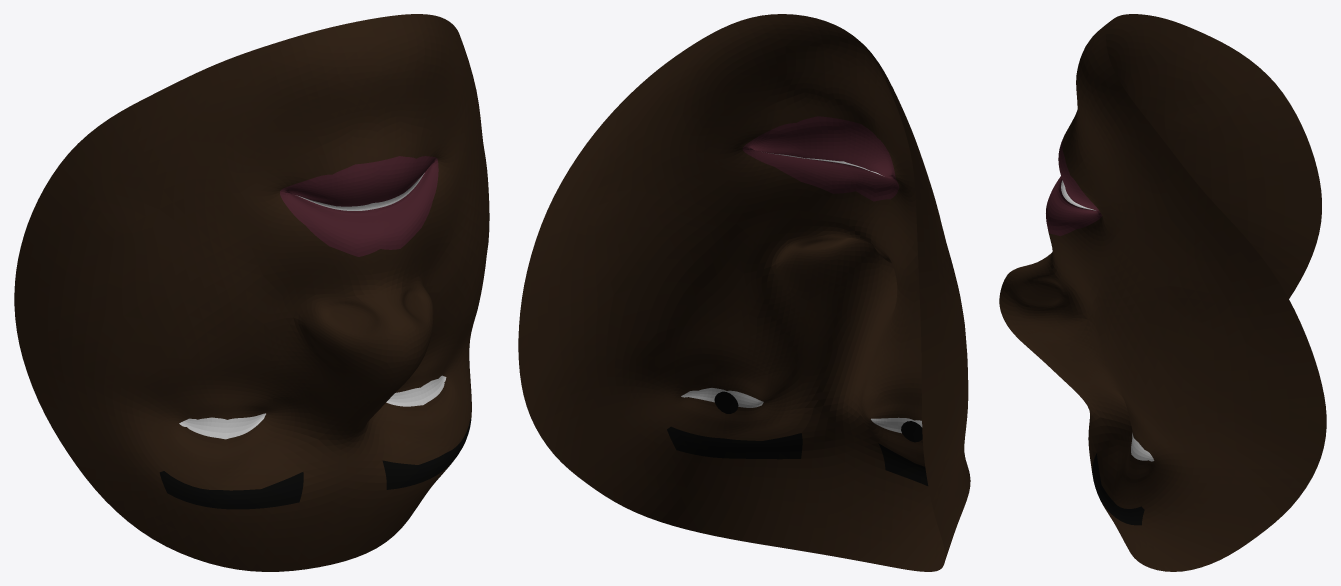
The model's file is crying.obj.
3 renders of one model, left to right at view 1: azimuth 30°, elevation 25°; view 2: azimuth 150°, elevation 25°; view 3: azimuth 270°, elevation 25°, orthographic. The views are drawn at different scales.
Visible parts, largest first — view 1: face_mesh_subdivided; view 2: face_mesh_subdivided; view 3: face_mesh_subdivided.
Boxes of the visible parts, <box> form: face_mesh_subdivided: <box>14,14,489,571</box>; face_mesh_subdivided: <box>518,14,970,571</box>; face_mesh_subdivided: <box>999,14,1326,571</box>.
Size of the model in its own units: 0.5987 by 0.7428 by 0.4324.
